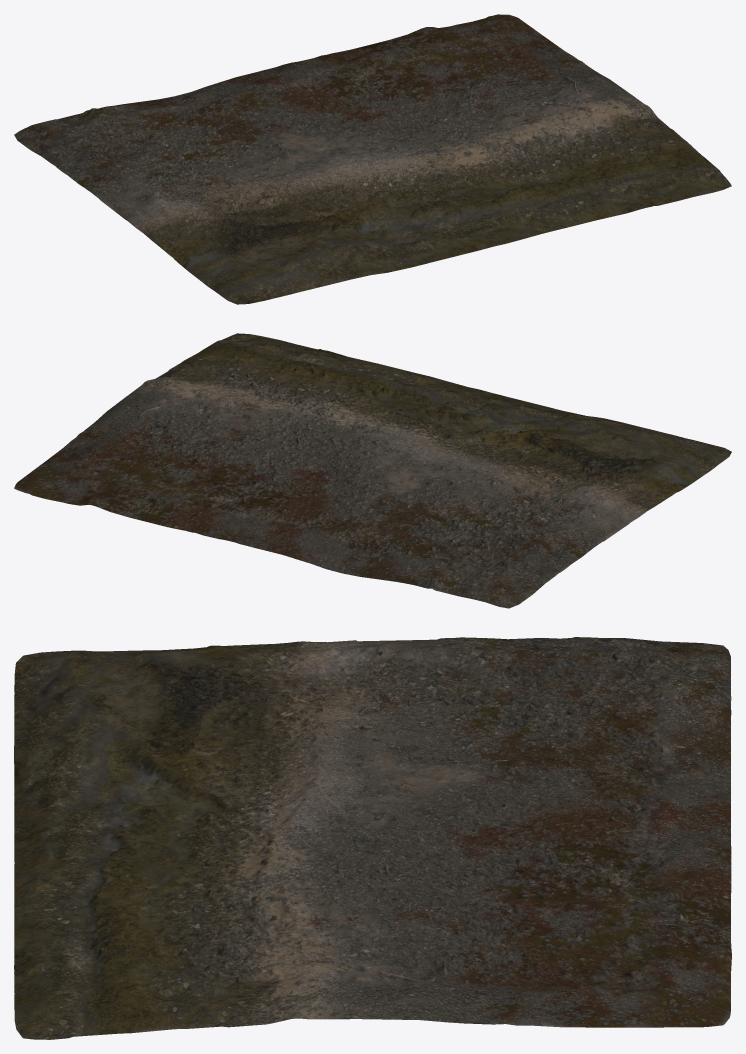
The model's file is coast_line_01_lod2.glb.
3 views of the same model, one above another, from view 1: azimuth 30°, elevation 25°; view 2: azimuth 150°, elevation 25°; view 3: azimuth 270°, elevation 25° (orthographic). The views are drawn at different scales.
Visible parts, largest first — view 1: coast_line_01; view 2: coast_line_01; view 3: coast_line_01.
Boxes of the visible parts, <box> form: coast_line_01: <box>14,14,731,304</box>; coast_line_01: <box>14,333,731,608</box>; coast_line_01: <box>14,637,731,1039</box>.
Bounding box in the file's own units: 54.61 × 2.63 × 42.96.
Materials: 1 (1 with a texture image).
